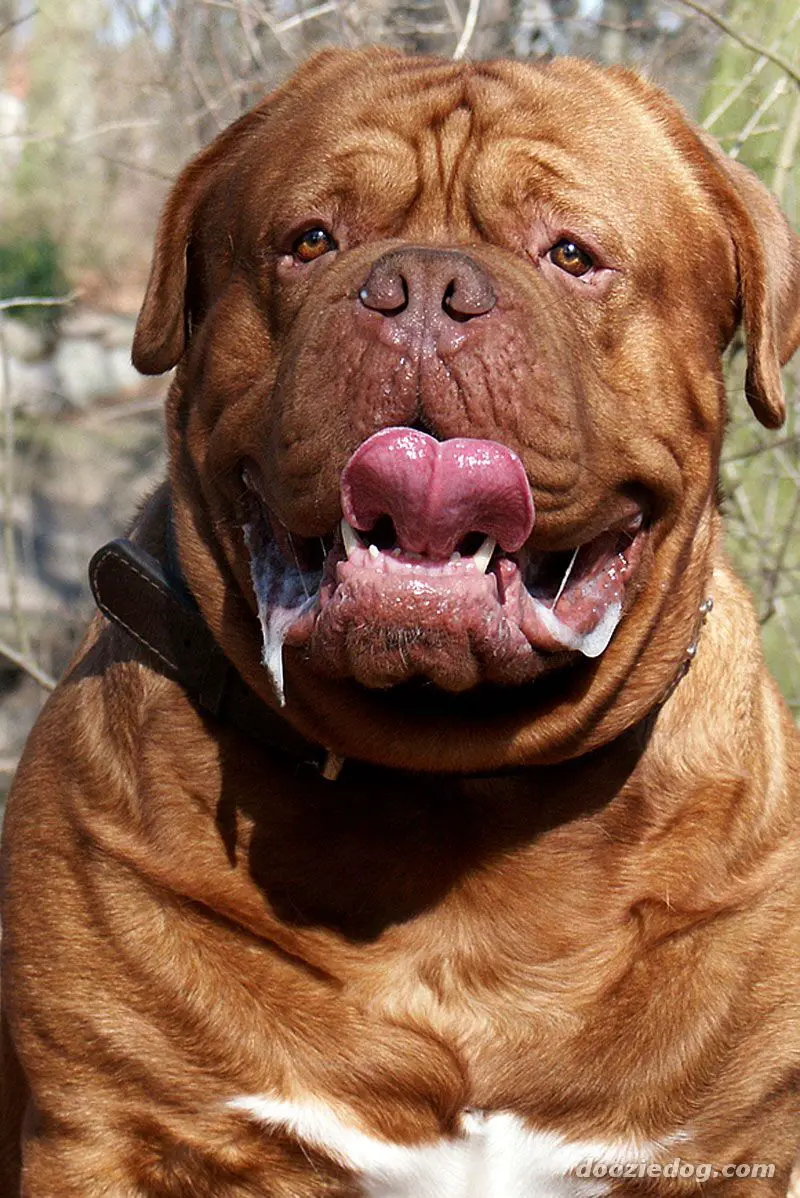dogue_de_bordeaux: (0, 36, 800, 1198)
